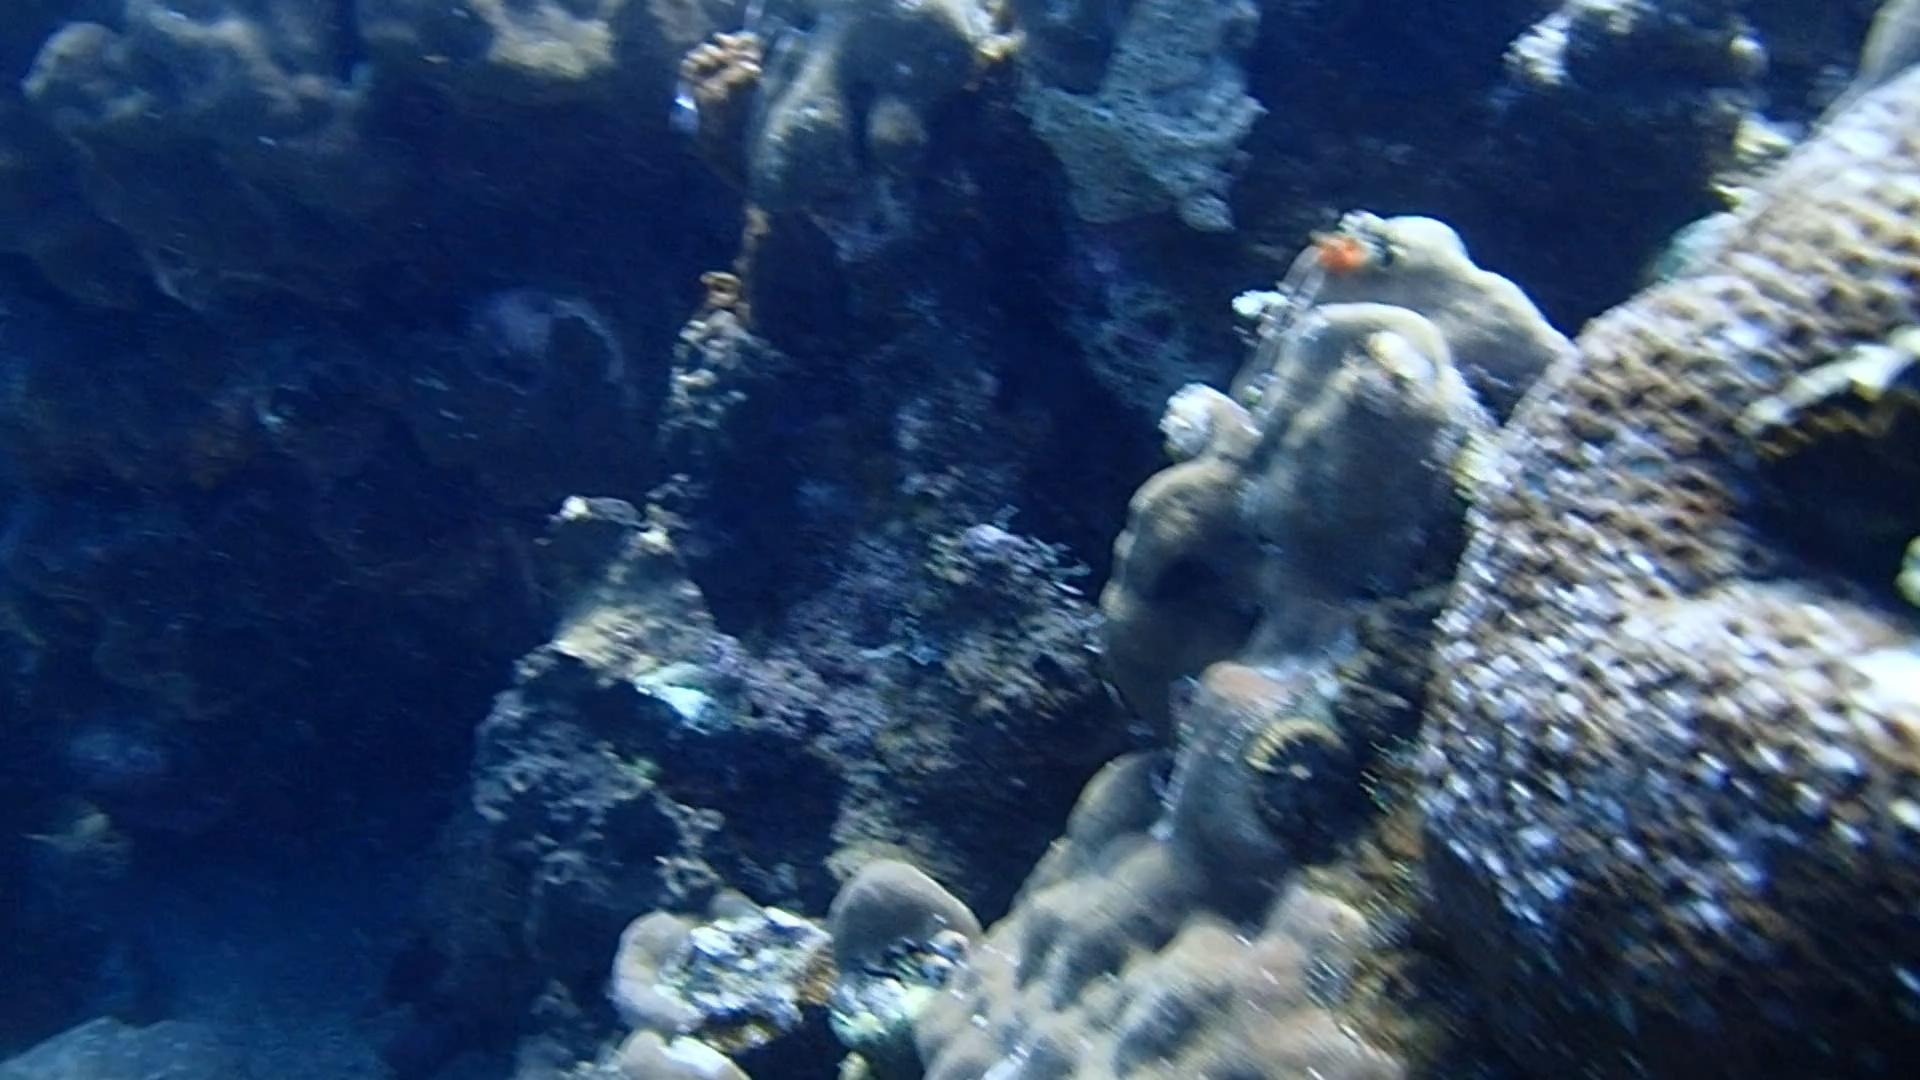Dark Fish: (1129, 538, 1222, 615), (1019, 646, 1117, 713)
